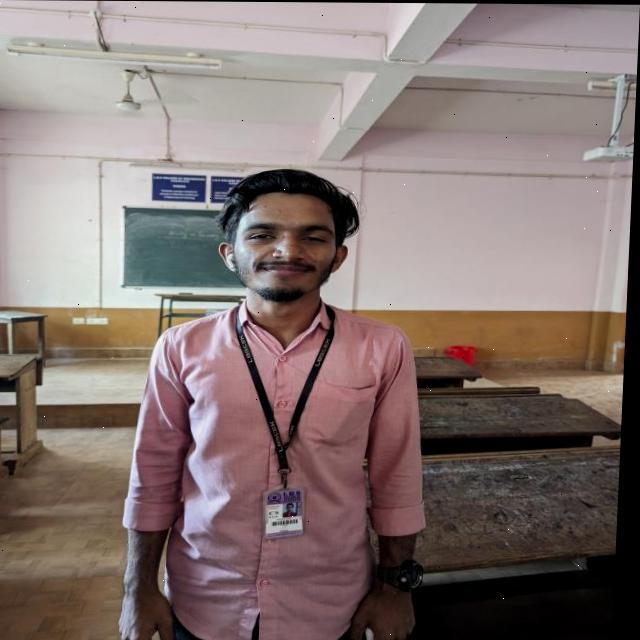id_card: (217, 310, 351, 541)
